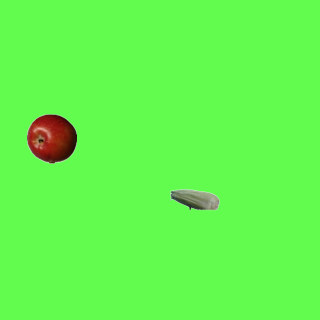Apple Braeburn: (26, 113, 76, 163)
Corn Husk: (169, 174, 219, 224)
